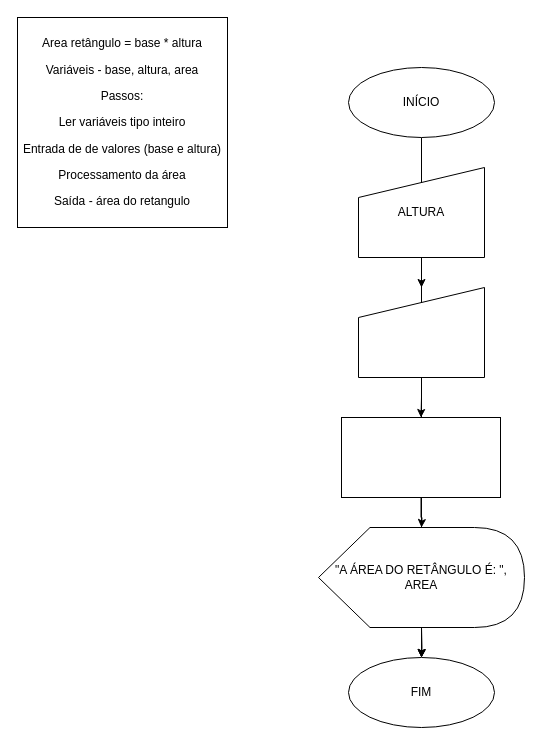
The diagram is 542 pixels wide and 745 high, and some of its shapes have lost their labels. Each missing label, with the box of its shape:
AREA <- BASE * ALTURA: (340, 416, 500, 498)
BASE: (358, 286, 484, 378)
